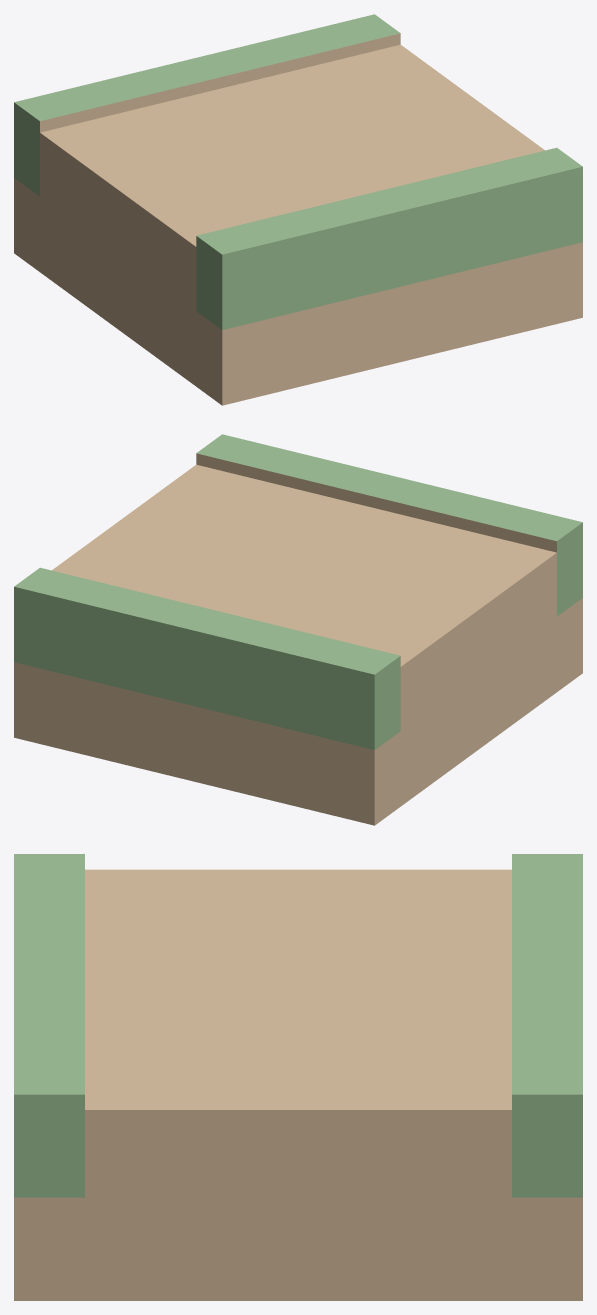
The model's file is tower-defense-classic--tile-089.glb.
3 views of the same model, one above another, from view 1: azimuth 30°, elevation 25°; view 2: azimuth 150°, elevation 25°; view 3: azimuth 270°, elevation 25° (orthographic). The views are drawn at different scales.
Visible parts, largest first — view 1: tile_089; view 2: tile_089; view 3: tile_089.
Boxes of the visible parts, bbox=[...] form: tile_089: bbox=[14, 14, 582, 405]; tile_089: bbox=[14, 434, 582, 825]; tile_089: bbox=[14, 854, 582, 1300].
Size of the model in its own units: 1 by 0.4 by 1.
